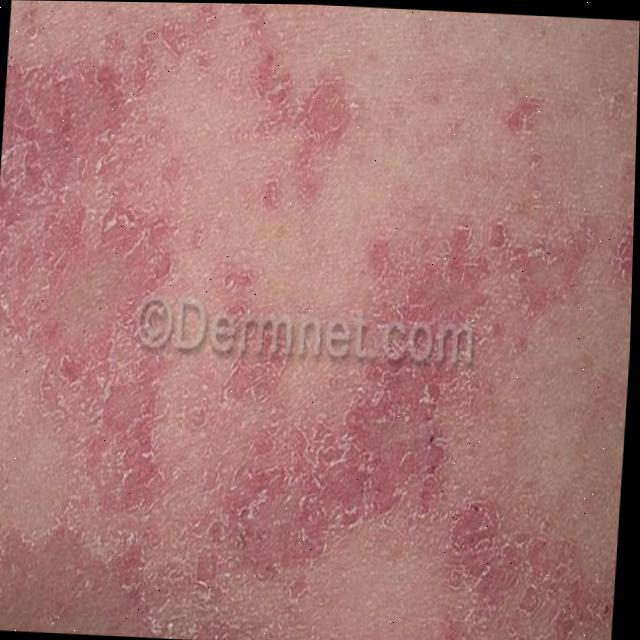Eczema: (0, 20, 631, 640)
